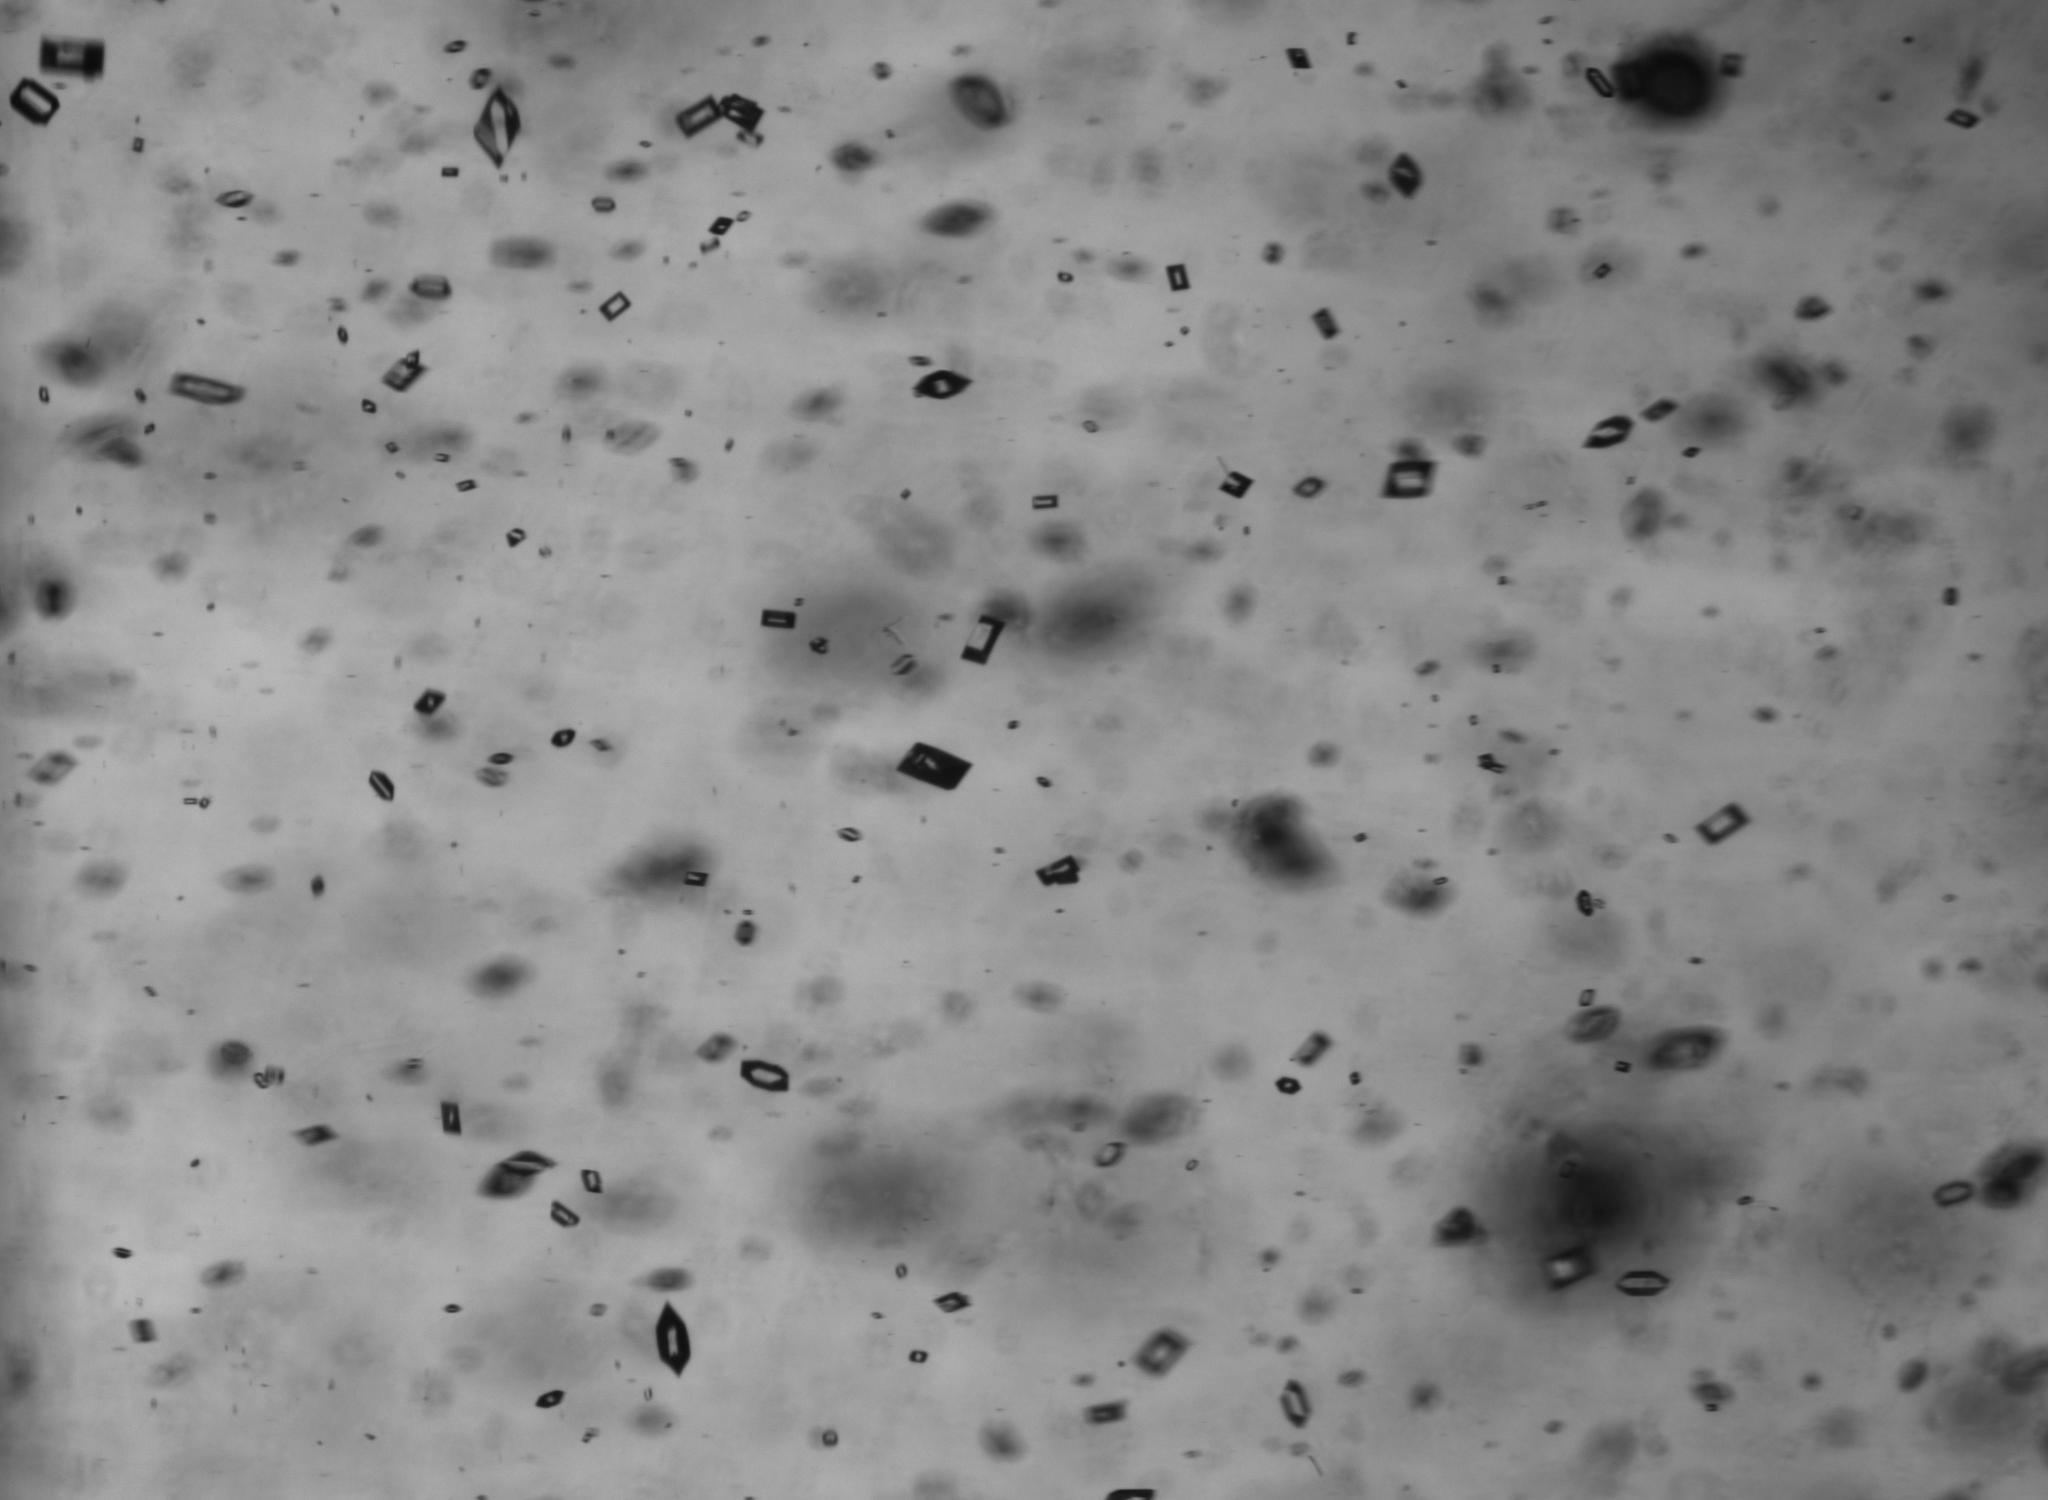crystal: (676, 94, 765, 145), (474, 86, 522, 169), (897, 743, 972, 791), (482, 1150, 555, 1198), (1382, 442, 1437, 499), (1132, 1328, 1189, 1376), (40, 37, 105, 78), (655, 1303, 690, 1374), (170, 372, 243, 406), (960, 614, 1007, 665), (10, 78, 59, 124), (1695, 803, 1749, 845), (1542, 1245, 1593, 1288), (1568, 1005, 1620, 1042), (382, 350, 426, 391), (913, 369, 972, 399), (1584, 415, 1633, 449), (1387, 153, 1423, 197), (1278, 1379, 1312, 1427), (739, 1059, 789, 1091), (1616, 1269, 1670, 1296), (1291, 1031, 1332, 1066), (1037, 856, 1080, 884), (1932, 1180, 1975, 1207), (1584, 67, 1619, 99), (1084, 1400, 1127, 1425), (598, 290, 631, 321), (410, 275, 452, 301), (437, 1099, 463, 1136), (933, 1290, 972, 1314), (367, 770, 396, 802), (1310, 307, 1339, 339), (1092, 1141, 1126, 1168), (1220, 471, 1253, 498), (1641, 398, 1678, 422), (550, 1199, 580, 1228), (413, 689, 445, 716), (215, 189, 254, 210), (760, 608, 798, 628), (1293, 476, 1326, 498), (253, 1066, 285, 1088), (1166, 264, 1189, 291), (534, 1389, 564, 1409), (892, 652, 917, 676), (811, 1427, 840, 1448), (550, 727, 577, 748), (1576, 891, 1596, 916), (1479, 752, 1504, 773), (1030, 493, 1059, 511), (1275, 1075, 1301, 1094), (682, 870, 709, 888), (506, 527, 526, 547), (592, 196, 614, 213), (838, 827, 862, 841), (809, 636, 828, 654), (908, 1349, 929, 1363), (456, 479, 475, 492), (440, 165, 460, 178), (113, 1247, 132, 1258), (363, 399, 377, 414), (711, 223, 727, 235), (337, 326, 348, 344), (135, 388, 146, 402), (38, 387, 49, 399), (145, 422, 156, 434)
